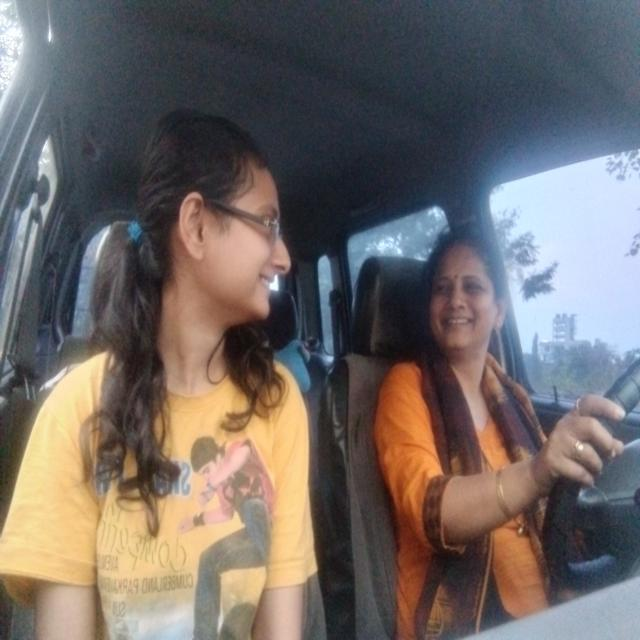LeftRight: (422, 225, 517, 377)
person: (145, 110, 298, 373)
